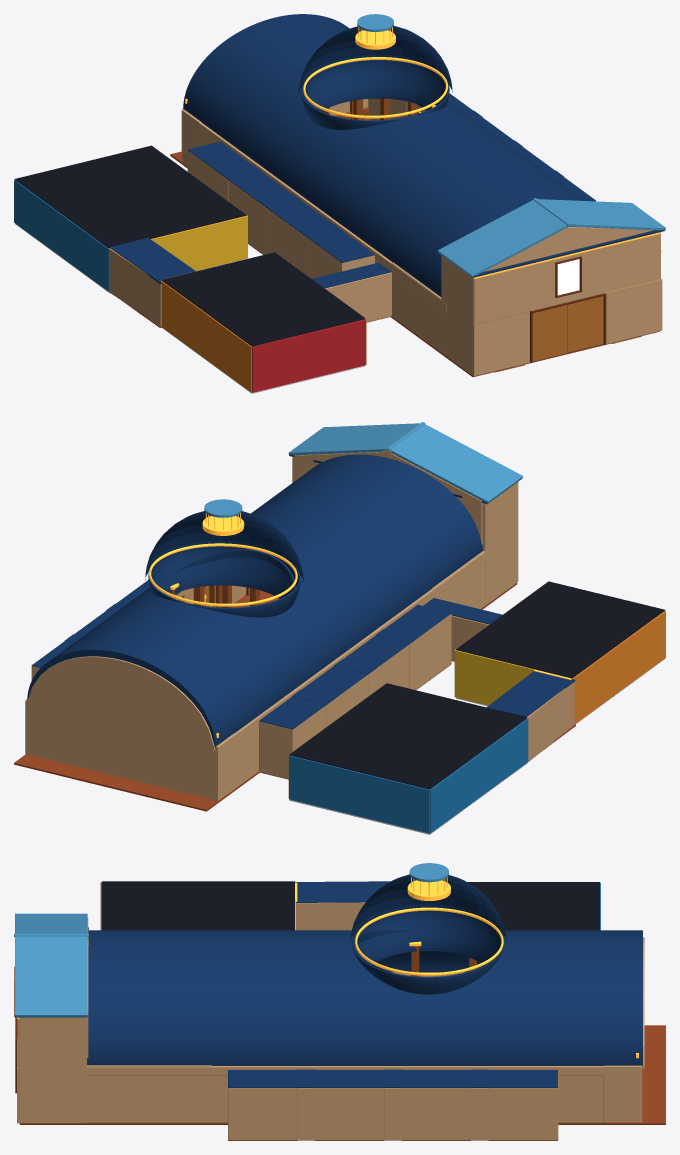
File: interior_iglesia.glb
The picture shows the model from 3 angles, top to bottom: view 1: azimuth 30°, elevation 25°; view 2: azimuth 150°, elevation 25°; view 3: azimuth 270°, elevation 25°; orthographic projection. The views are drawn at different scales.
Visible parts, largest first — view 1: TECHO_PRINCIPAL_UNICO, Museo_L_Cielo, Museo_U_Cielo, V16_Fronton_Base, V22_Transicion_Curva_Cupula, Museo_U_Muro_Sur, V16_Cubierta_Dos_Aguas_Oeste, Museo_U_Muro_Oeste, Museo_L_Muro_Oeste, Museo_L_Muro_Sur_Izq, L_Cupula_Amplia_V22, V19_Muro_Vestibulo_Oeste (+27 smaller); view 2: TECHO_PRINCIPAL_UNICO, Museo_L_Cielo, Museo_U_Cielo, V23_Testero_Arqueado_Norte, V14_Muro_Testero_Fondo, Museo_L_Muro_Norte, V22_Transicion_Curva_Cupula, V16_Cubierta_Dos_Aguas_Oeste, Museo_L_Muro_Oeste, Museo_U_Muro_Oeste, L_Cupula_Amplia_V22, V19_Muro_Vestibulo_Oeste (+25 smaller); view 3: TECHO_PRINCIPAL_UNICO, Museo_U_Cielo, V22_Transicion_Curva_Cupula, V19_Muro_Vestibulo_Oeste.001, C_Muro_Exterior, V16_Cubierta_Dos_Aguas_Este, Museo_L_Cielo, I_Muro_Fondo, N_Muro_Fondo, H_Muro_Fondo, J_Muro_Fondo, L_Cupula_Amplia_V22 (+18 smaller).
Part boxes in pixels (x1,y1,x2,y2): TECHO_PRINCIPAL_UNICO: (183, 14, 584, 296); Museo_L_Cielo: (15, 145, 246, 248); Museo_U_Cielo: (162, 252, 365, 346); V16_Fronton_Base: (473, 234, 660, 324); V22_Transicion_Curva_Cupula: (301, 60, 449, 129); Museo_U_Muro_Sur: (252, 319, 365, 392); V16_Cubierta_Dos_Aguas_Oeste: (437, 200, 568, 277); Museo_U_Muro_Oeste: (161, 281, 251, 392); Museo_L_Muro_Oeste: (14, 180, 108, 291); Museo_L_Muro_Sur_Izq: (151, 215, 247, 270); L_Cupula_Amplia_V22: (298, 26, 452, 95); V19_Muro_Vestibulo_Oeste: (441, 255, 473, 375); TECHO_PRINCIPAL_UNICO: (27, 454, 482, 747); Museo_L_Cielo: (289, 683, 526, 789); Museo_U_Cielo: (456, 581, 664, 678); V23_Testero_Arqueado_Norte: (27, 656, 215, 751); V14_Muro_Testero_Fondo: (25, 699, 218, 800); Museo_L_Muro_Norte: (289, 755, 429, 833); V22_Transicion_Curva_Cupula: (148, 546, 300, 617); V16_Cubierta_Dos_Aguas_Oeste: (390, 424, 522, 503); Museo_L_Muro_Oeste: (430, 718, 528, 833); Museo_U_Muro_Oeste: (572, 610, 665, 723); L_Cupula_Amplia_V22: (145, 511, 303, 582); V19_Muro_Vestibulo_Oeste: (482, 483, 517, 605); TECHO_PRINCIPAL_UNICO: (87, 930, 642, 1065); Museo_U_Cielo: (102, 881, 294, 930); V22_Transicion_Curva_Cupula: (352, 910, 504, 994); V19_Muro_Vestibulo_Oeste.001: (19, 1017, 86, 1123); C_Muro_Exterior: (87, 1065, 211, 1122); V16_Cubierta_Dos_Aguas_Este: (15, 936, 87, 1017); Museo_L_Cielo: (467, 882, 599, 930); I_Muro_Fondo: (228, 1088, 297, 1140); N_Muro_Fondo: (488, 1088, 557, 1140); H_Muro_Fondo: (402, 1088, 470, 1140); J_Muro_Fondo: (315, 1088, 383, 1140); L_Cupula_Amplia_V22: (349, 874, 507, 943).
Size of the model in its own units: 52.26 by 23.55 by 67.6.
